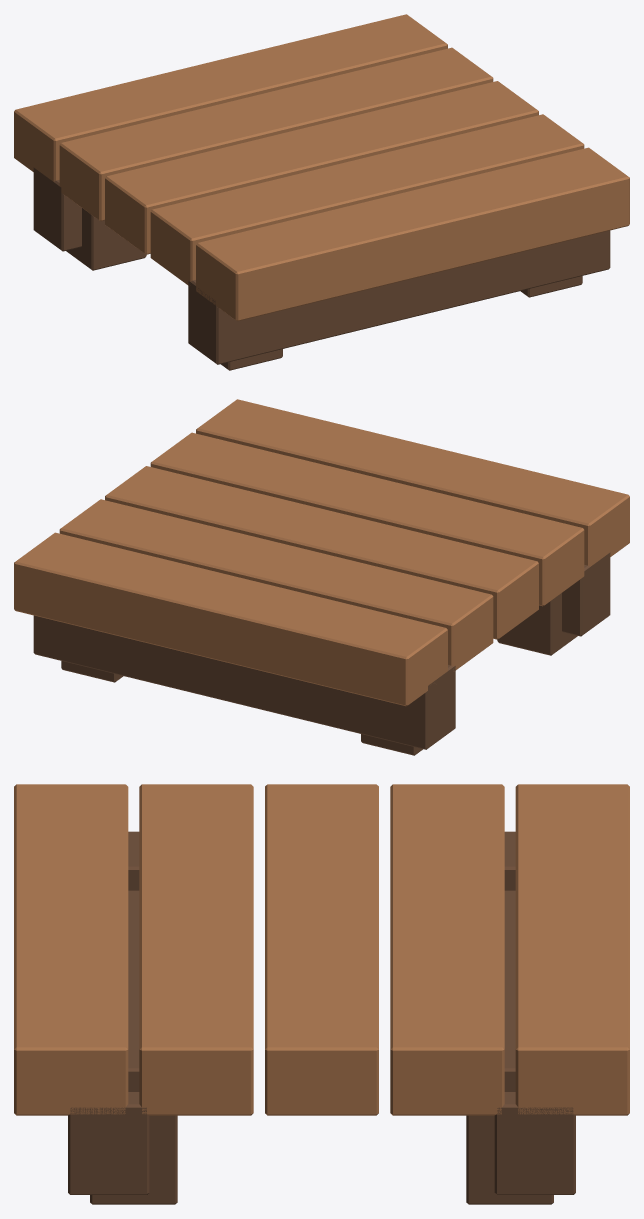
Rendered from wood_platform_small_01.glb.
3 views of the same model, one above another, from view 1: azimuth 30°, elevation 25°; view 2: azimuth 150°, elevation 25°; view 3: azimuth 270°, elevation 25° (orthographic). The views are drawn at different scales.
Visible parts, largest first — view 1: wood_platform_small_01; view 2: wood_platform_small_01; view 3: wood_platform_small_01.
Part boxes in pixels (x1=…): wood_platform_small_01: x1=14, y1=14, x2=629, y2=370; wood_platform_small_01: x1=14, y1=399, x2=629, y2=755; wood_platform_small_01: x1=14, y1=784, x2=629, y2=1204.
Size of the model in its own units: 1 by 0.3 by 0.982.
